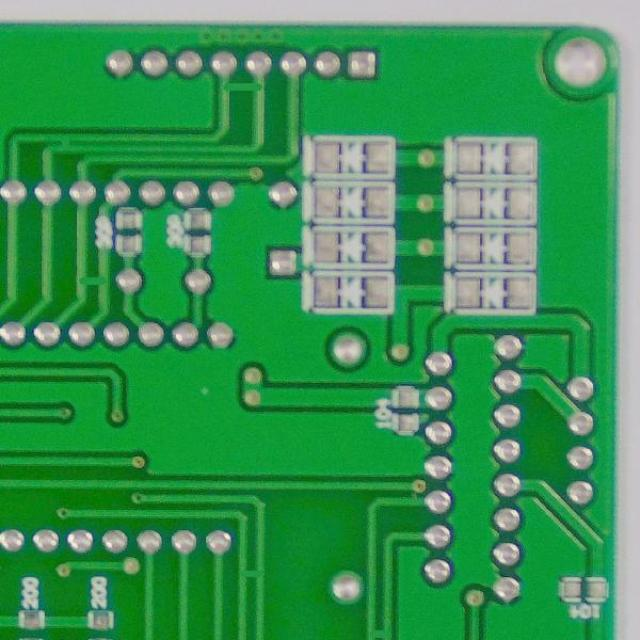Short_Circuit: (211, 74, 271, 105), (69, 266, 112, 296), (232, 559, 269, 589), (360, 621, 397, 639), (53, 130, 77, 157)
